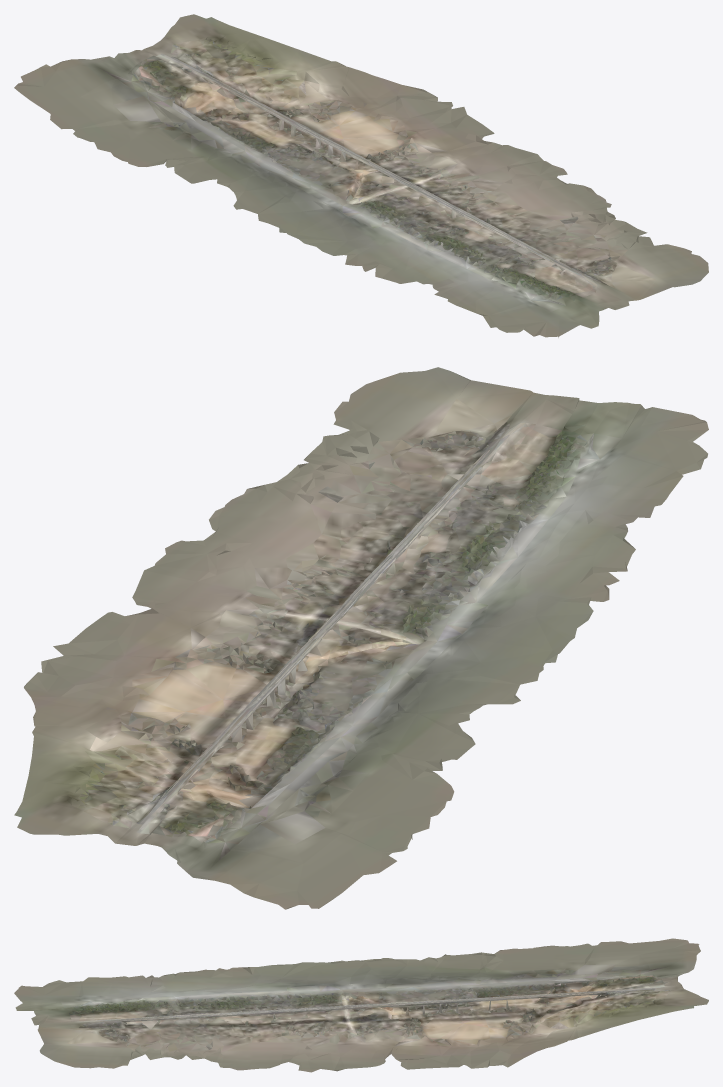
Rendered from Block.glb.
3 renders of one model, top to bottom at view 1: azimuth 30°, elevation 25°; view 2: azimuth 150°, elevation 25°; view 3: azimuth 270°, elevation 25°, orthographic. The views are drawn at different scales.
Parts seen in each view (by area): view 1: rtc; view 2: rtc; view 3: rtc.
Part boxes in pixels (<box>): rtc: <box>14,14,708,337</box>; rtc: <box>14,367,708,909</box>; rtc: <box>14,938,708,1072</box>.
Bounding box in the file's own units: 634 × 41.08 × 1354.
Materials: 2 (2 with a texture image).
